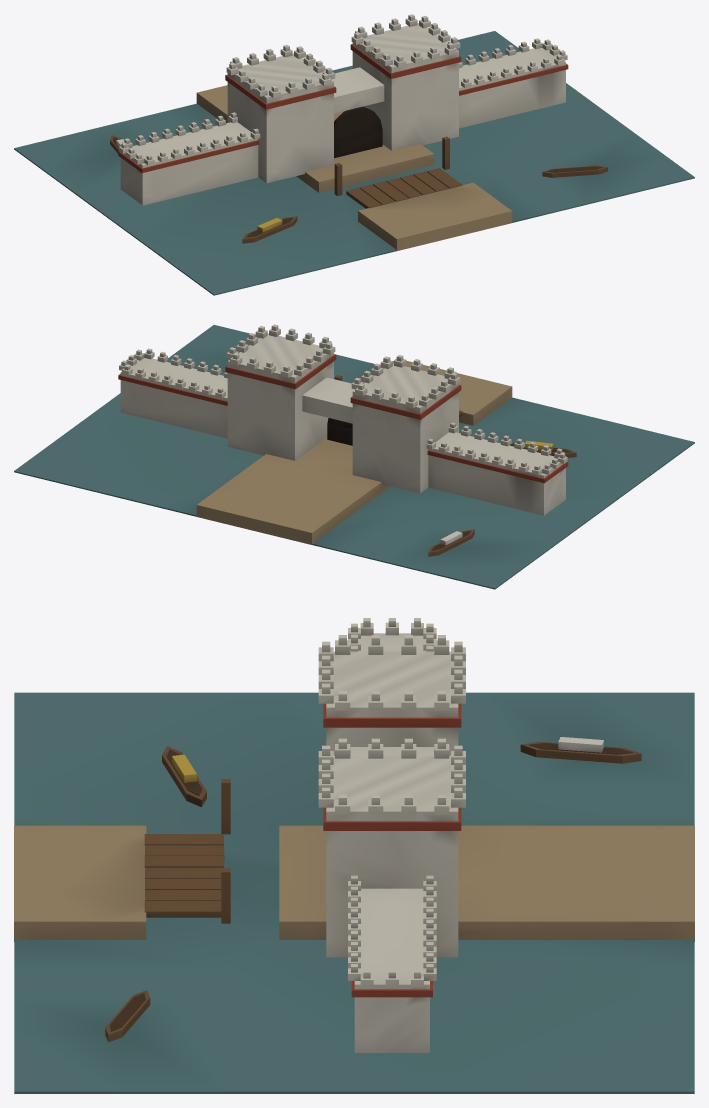
File: xoloc.glb
The picture shows the model from 3 angles, top to bottom: view 1: azimuth 30°, elevation 25°; view 2: azimuth 150°, elevation 25°; view 3: azimuth 270°, elevation 25°; orthographic projection. The views are drawn at different scales.
Visible parts, largest first — view 1: p0_causeway, p1_fort, p2_bridge; view 2: p0_causeway, p1_fort, p2_bridge; view 3: p0_causeway, p1_fort, p2_bridge.
Boxes of the visible parts, bbox=[...] form: p0_causeway: bbox=[14, 31, 694, 295]; p1_fort: bbox=[118, 14, 568, 205]; p2_bridge: bbox=[110, 135, 607, 243]; p0_causeway: bbox=[14, 325, 694, 589]; p1_fort: bbox=[118, 324, 568, 515]; p2_bridge: bbox=[334, 375, 576, 556]; p0_causeway: bbox=[14, 692, 694, 1093]; p1_fort: bbox=[318, 618, 465, 1052]; p2_bridge: bbox=[105, 737, 641, 1042].
Size of the model in its own units: 50 by 10.38 by 36.04.
